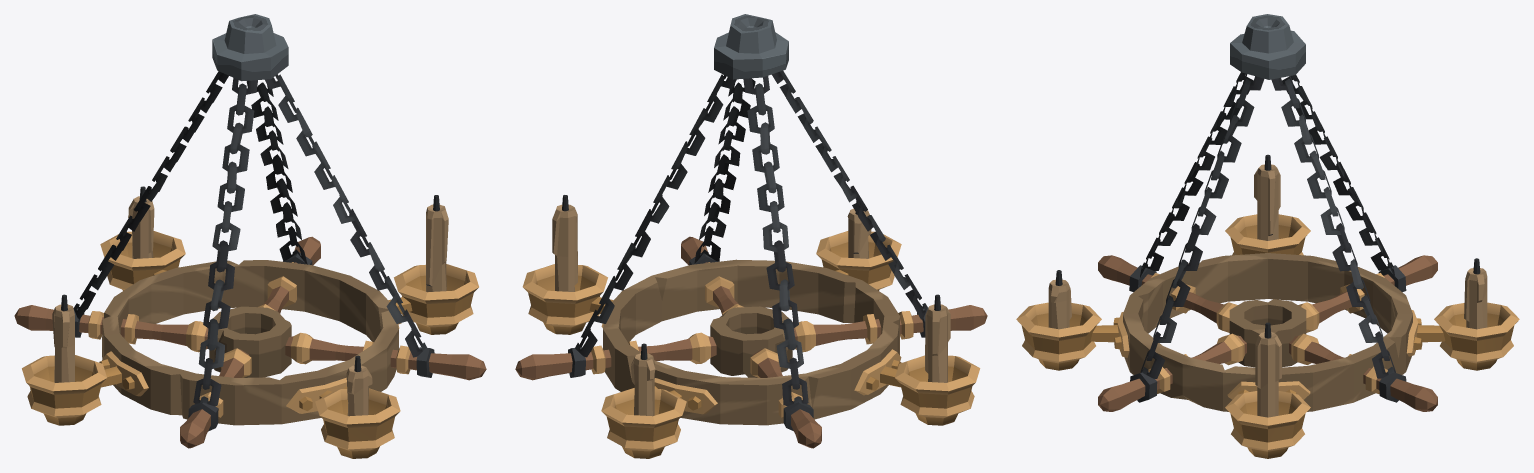
File: SM_Prop_Chandelier_01.fbx
3 views of the same model, side by side, from view 1: azimuth 30°, elevation 25°; view 2: azimuth 150°, elevation 25°; view 3: azimuth 270°, elevation 25° (orthographic). The views are drawn at different scales.
Parts seen in each view (by area): view 1: SM_Prop_Chandelier_01; view 2: SM_Prop_Chandelier_01; view 3: SM_Prop_Chandelier_01.
Boxes of the visible parts, bbox=[...] form: SM_Prop_Chandelier_01: bbox=[14, 14, 486, 458]; SM_Prop_Chandelier_01: bbox=[515, 14, 987, 458]; SM_Prop_Chandelier_01: bbox=[1016, 14, 1519, 458].
Bounding box in the file's own units: 139 × 103 × 139.
